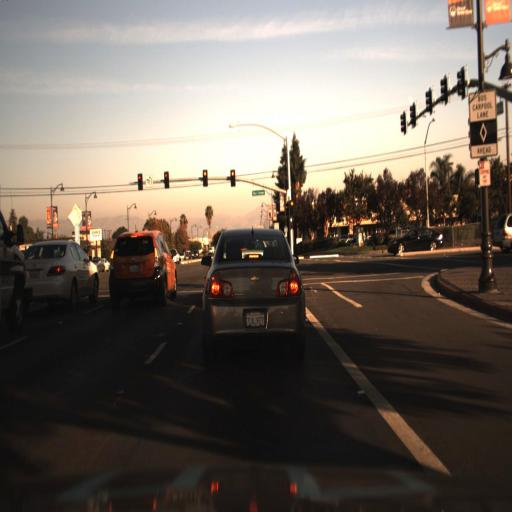car: (203, 228, 307, 357), (25, 233, 100, 309), (108, 226, 174, 306), (380, 218, 450, 258), (384, 224, 446, 258)
trafficLight-Red: (285, 190, 297, 208), (226, 159, 236, 180), (134, 171, 144, 186), (202, 158, 209, 178), (162, 169, 172, 182)
trafficLight-RedLeft: (162, 160, 172, 187), (136, 162, 145, 186)
